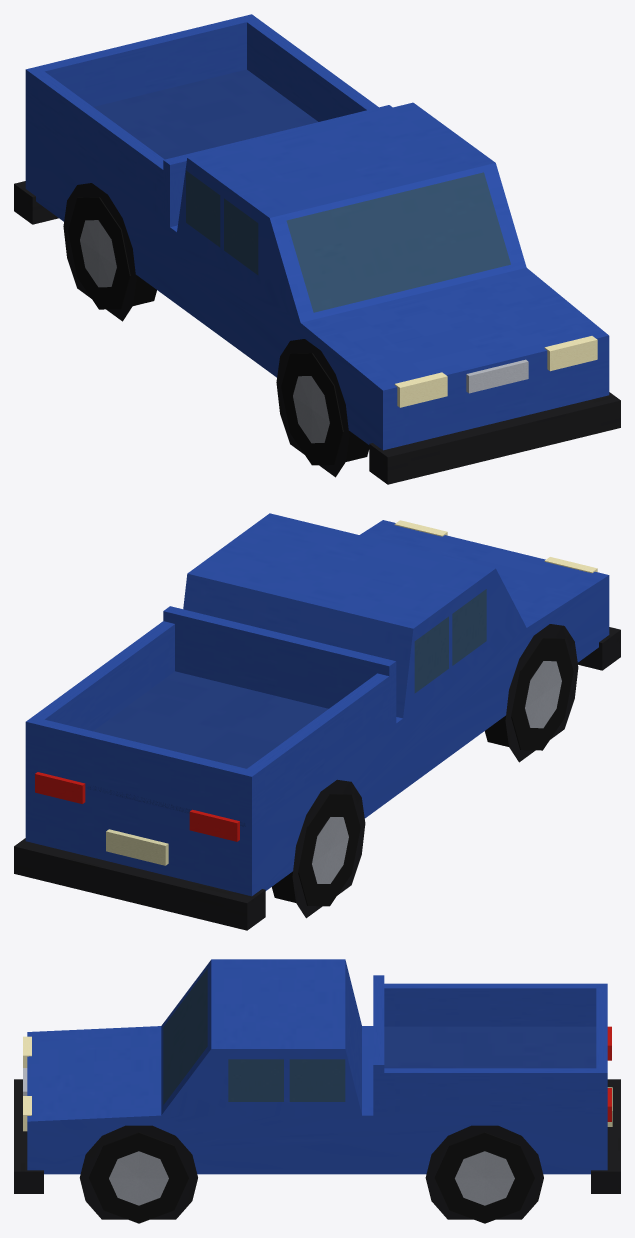
File: pickup-blue-far.glb
The picture shows the model from 3 angles, top to bottom: view 1: azimuth 30°, elevation 25°; view 2: azimuth 150°, elevation 25°; view 3: azimuth 270°, elevation 25°; orthographic projection. The views are drawn at different scales.
Visible parts, largest first — view 1: pickup-blue-far; view 2: pickup-blue-far; view 3: pickup-blue-far.
Boxes of the visible parts, x1=… form: pickup-blue-far: x1=14, y1=14, x2=620, y2=484; pickup-blue-far: x1=14, y1=513, x2=620, y2=930; pickup-blue-far: x1=14, y1=959, x2=620, y2=1223.
Bounding box in the file's own units: 1.96 × 1.72 × 5.44.
Materials: 1 (1 with a texture image).
